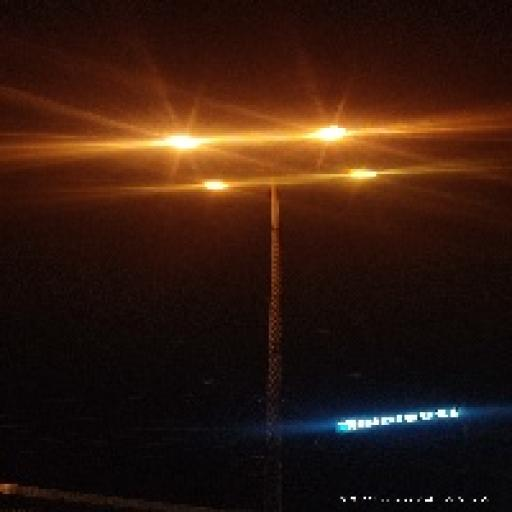Working: (298, 116, 358, 153), (153, 126, 207, 158), (340, 162, 388, 188), (193, 171, 232, 199)
